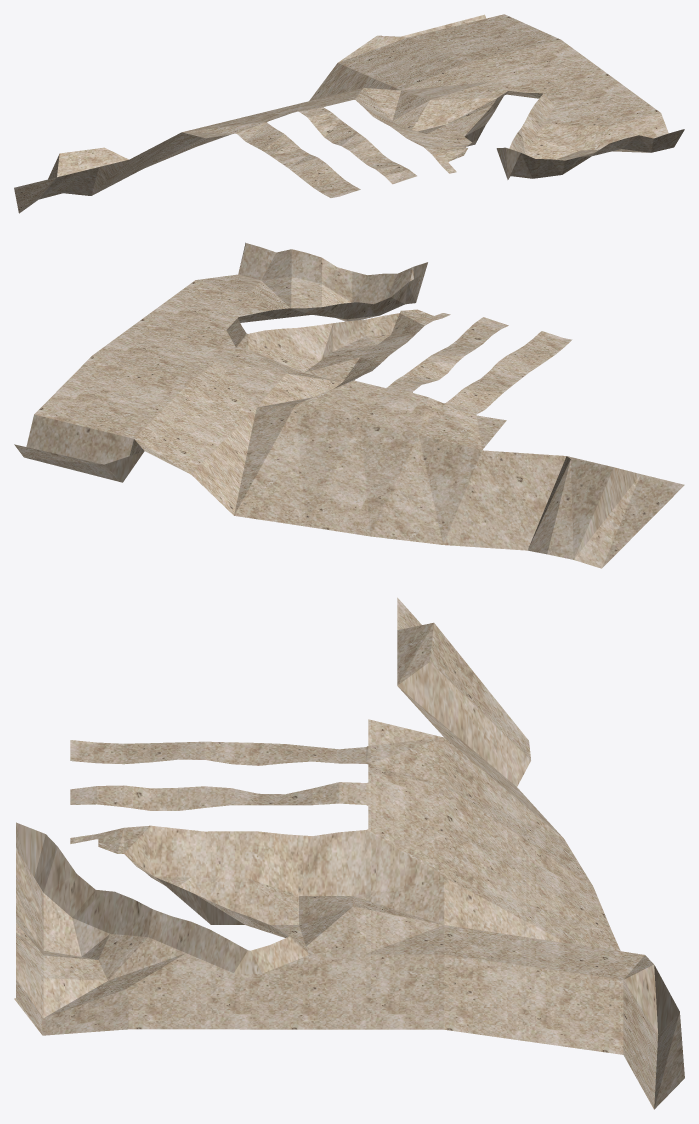
File: sbseabed_sfe05.obj
The picture shows the model from 3 angles, top to bottom: view 1: azimuth 30°, elevation 25°; view 2: azimuth 150°, elevation 25°; view 3: azimuth 270°, elevation 25°; orthographic projection. The views are drawn at different scales.
Parts seen in each view (by area): view 1: sbseabed_sfe05; view 2: sbseabed_sfe05; view 3: sbseabed_sfe05.
Part boxes in pixels (x1,y1,x2,y2): sbseabed_sfe05: [14, 14, 684, 213]; sbseabed_sfe05: [14, 242, 684, 568]; sbseabed_sfe05: [14, 597, 684, 1109].
Size of the model in its own units: 444 by 77.24 by 291.
